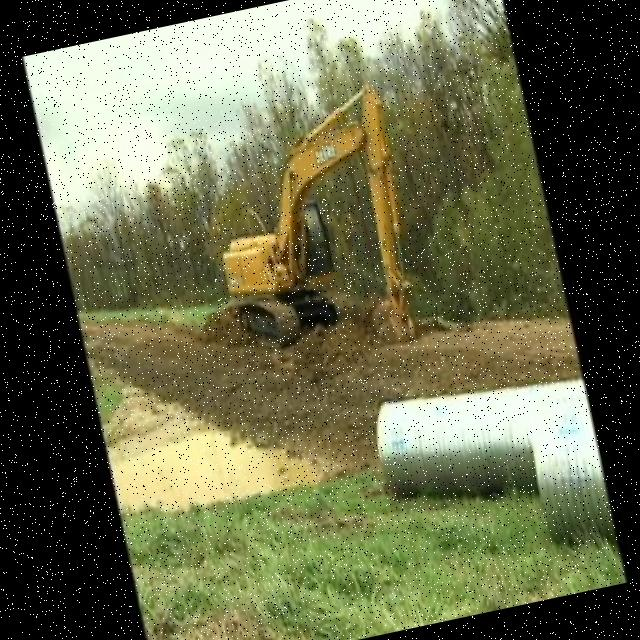Excavator: (180, 58, 436, 376)
